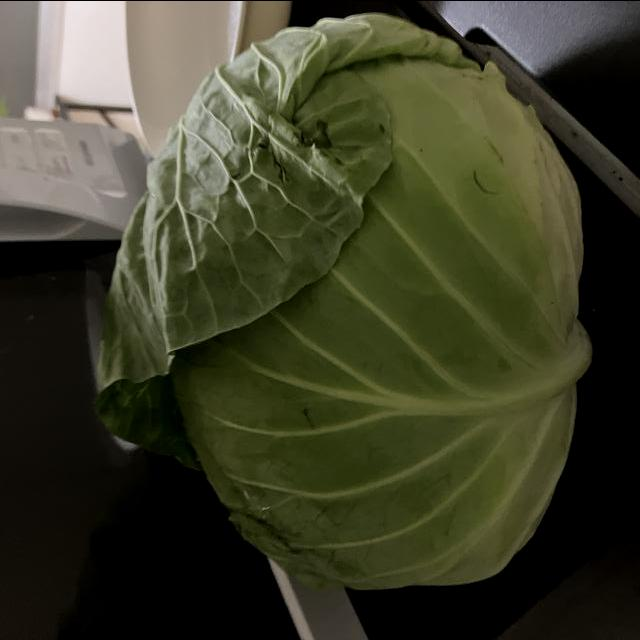cabbage: (89, 11, 597, 599)
